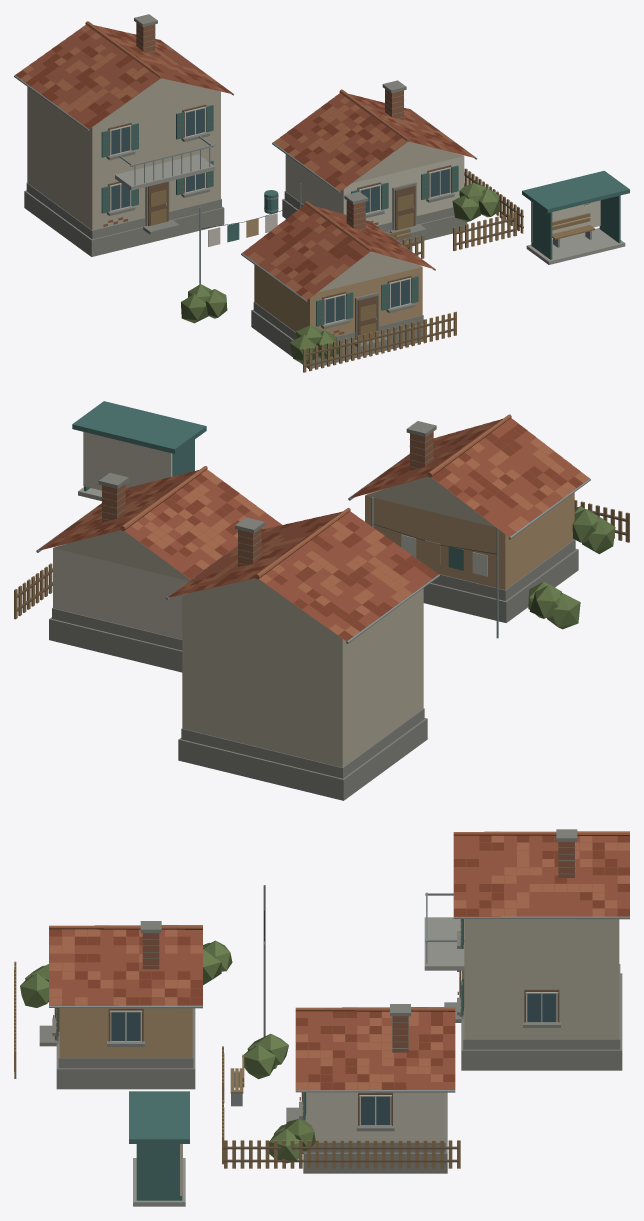
Rendered from village.glb.
The picture shows the model from 3 angles, top to bottom: view 1: azimuth 30°, elevation 25°; view 2: azimuth 150°, elevation 25°; view 3: azimuth 270°, elevation 25°; orthographic projection. The views are drawn at different scales.
Visible parts, largest first — view 1: village_visual; view 2: village_visual; view 3: village_visual.
Part boxes in pixels (x1,y1,x2,y2): village_visual: (14,14,629,372); village_visual: (14,401,629,800); village_visual: (14,829,629,1206).
Size of what is drawn, in the model's own units: 20.62 by 8.63 by 22.23.
